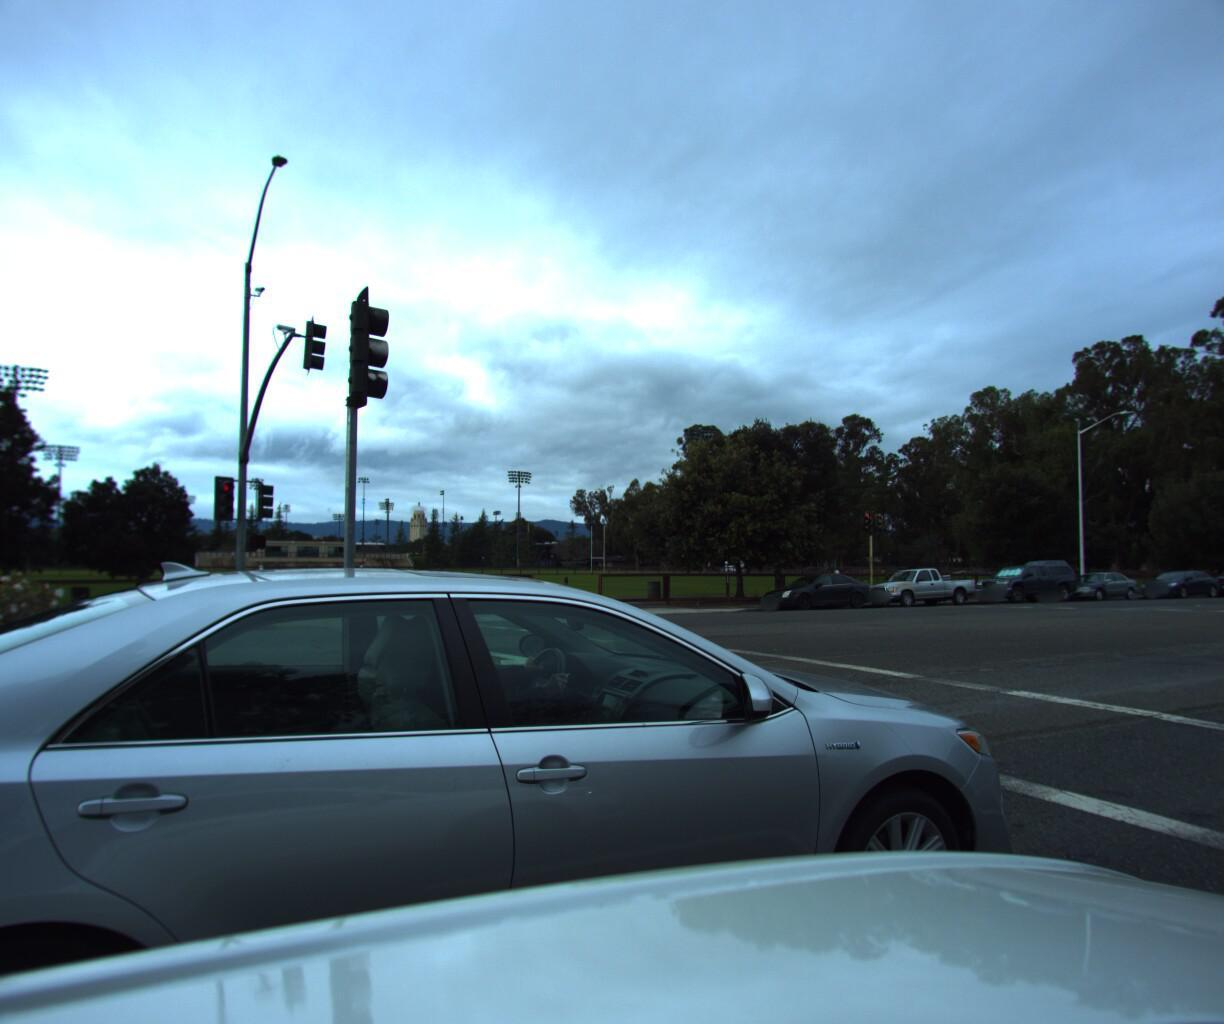car: (0, 562, 1085, 1024), (852, 560, 980, 609), (748, 568, 878, 613), (963, 553, 1082, 602), (1041, 565, 1141, 598), (1125, 563, 1217, 593), (1192, 557, 1224, 592)
